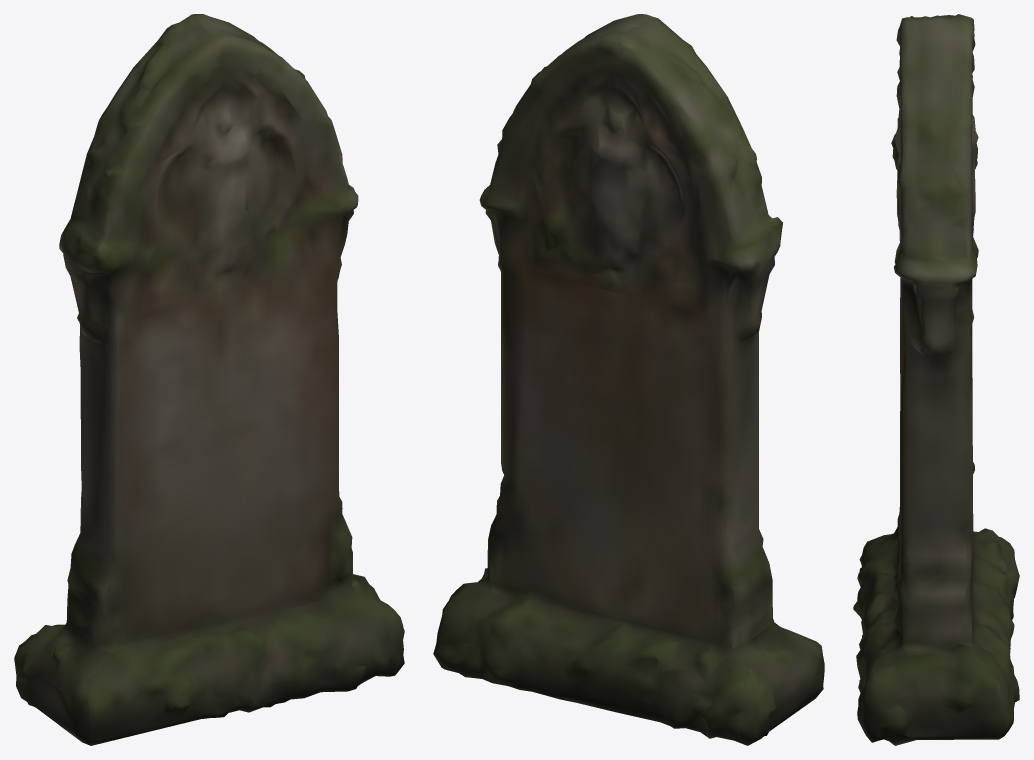
Rendered from Tombstone_01.fbx.
3 renders of one model, left to right at view 1: azimuth 30°, elevation 25°; view 2: azimuth 150°, elevation 25°; view 3: azimuth 270°, elevation 25°, orthographic. The views are drawn at different scales.
Visible parts, largest first — view 1: Tombstone_01; view 2: Tombstone_01; view 3: Tombstone_01.
Boxes of the visible parts, left/top/right/bottom form: Tombstone_01: left=14, top=14, right=404, bottom=745; Tombstone_01: left=433, top=14, right=824, bottom=745; Tombstone_01: left=853, top=14, right=1019, bottom=745.
Size of what is drawn, in the model's own units: 92.55 by 175 by 40.28.
